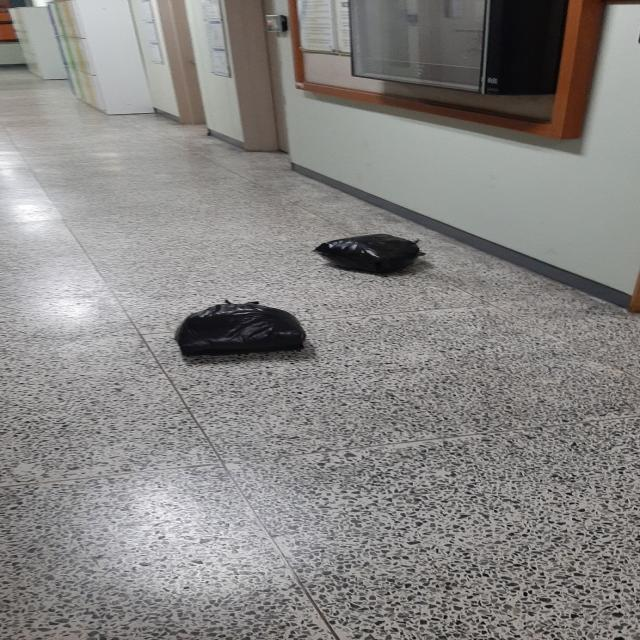black_bag: (173, 298, 308, 362), (313, 233, 427, 278)
